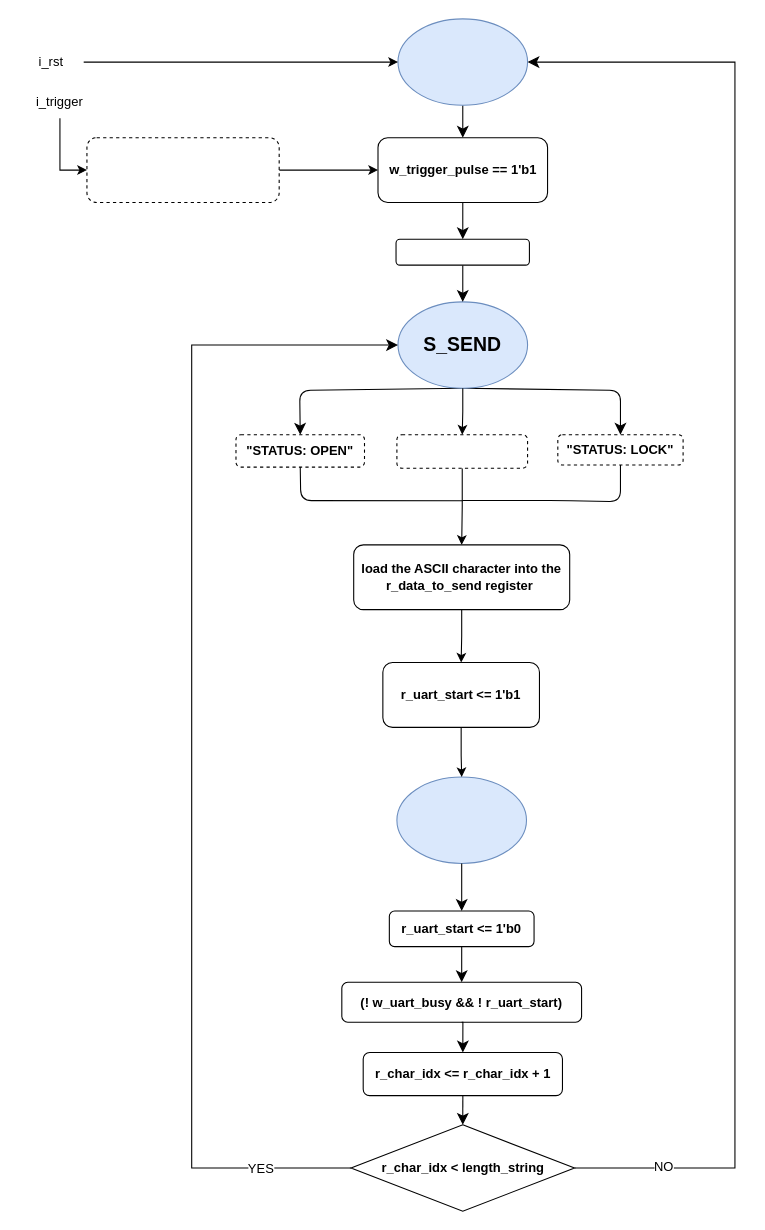
The diagram is 765 pixels wide and 1230 high, and some of its shapes have lost their labels. The box of each missing label's shape, as (x1, y1, x2, y2) in pixels:
"STATUS: WRONG": (396, 434, 528, 468)
Edge Detector (One-Pulse): (86, 137, 279, 202)
r_char_idx <= 0: (395, 238, 529, 265)
S_IDLE: (397, 18, 528, 105)
S_WAIT: (396, 776, 526, 863)
